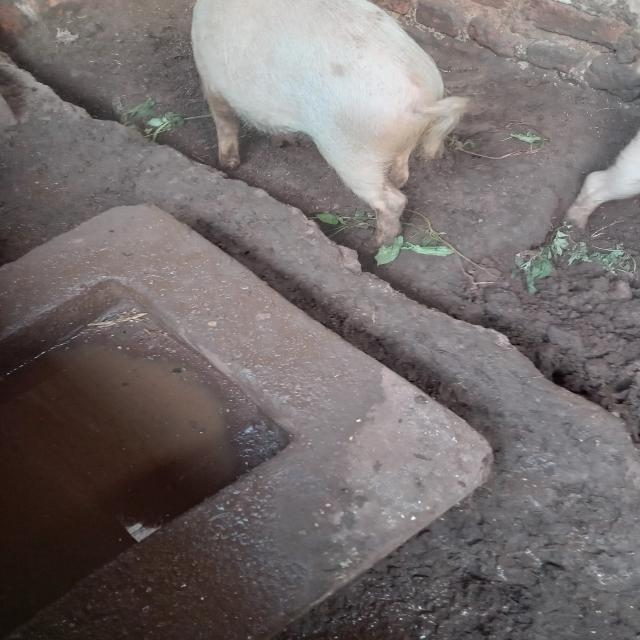pig: (156, 0, 511, 278)
